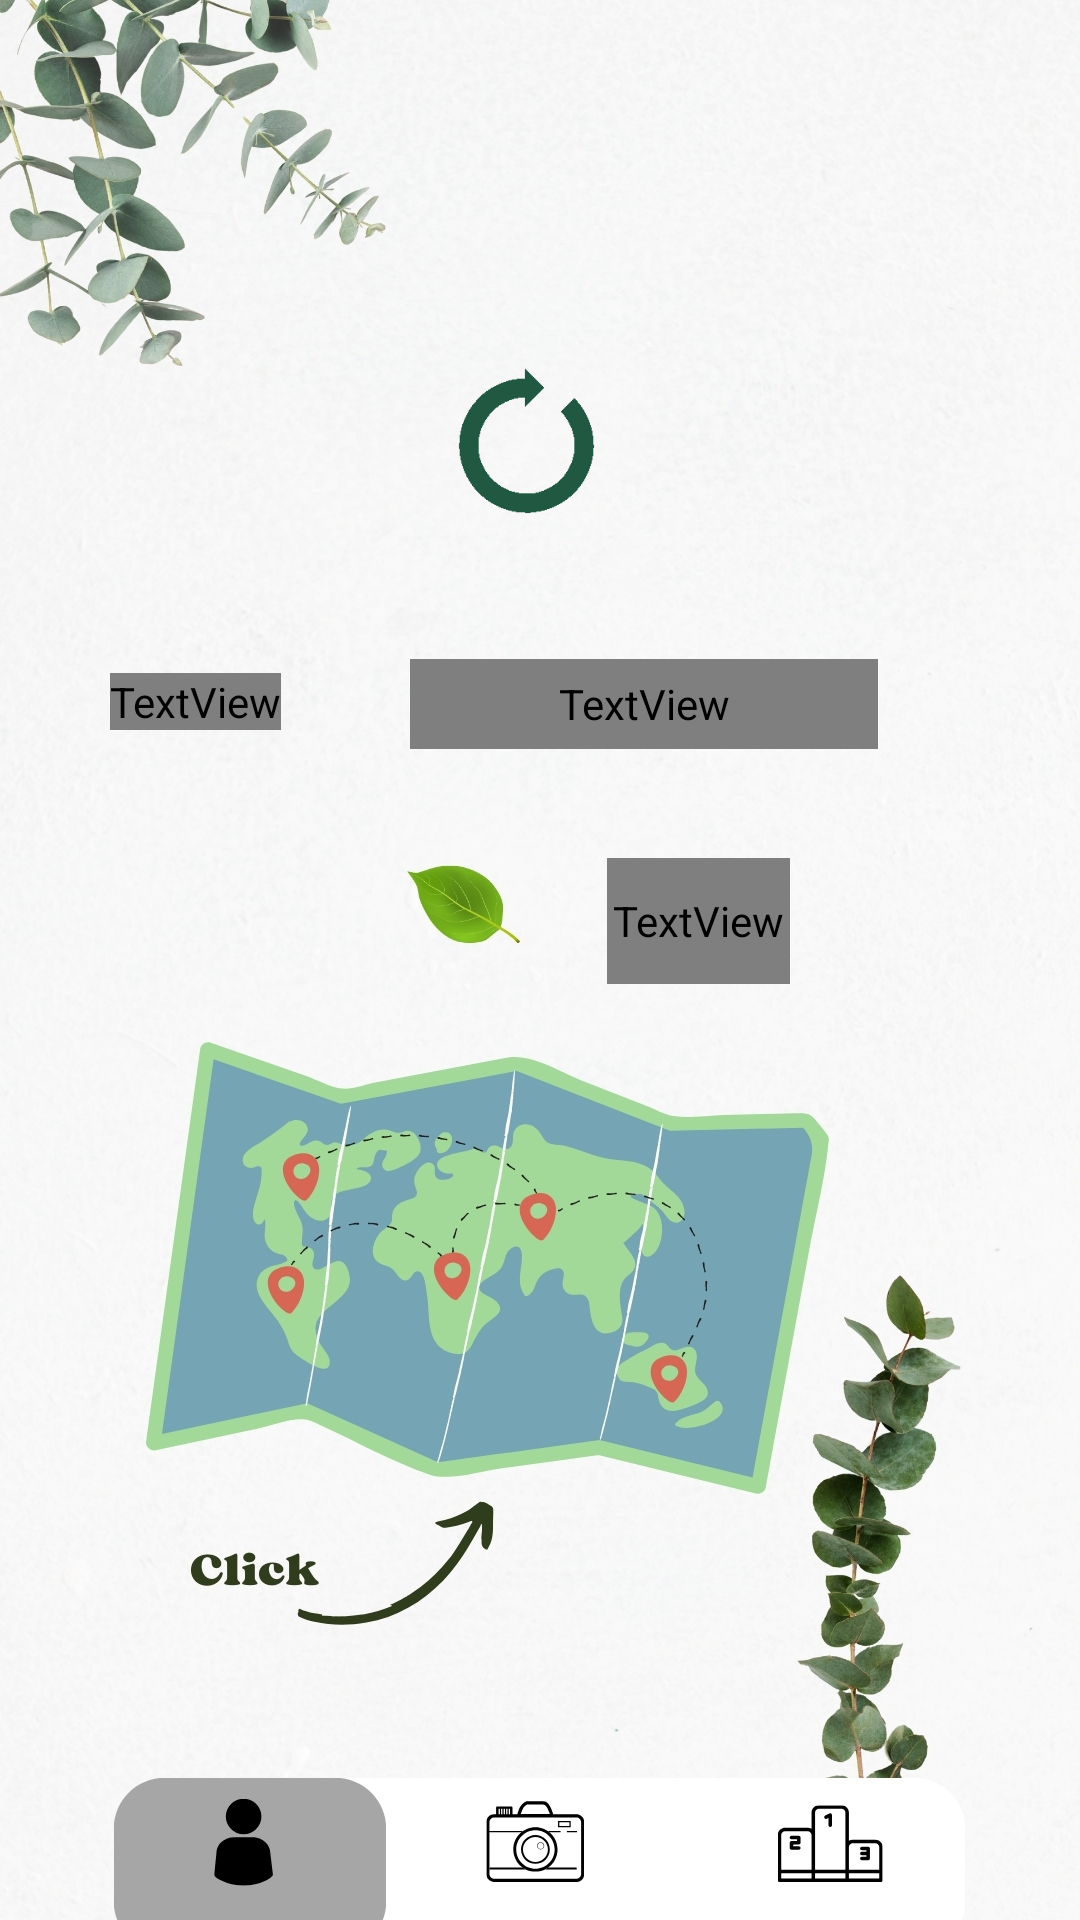

Where icons sit on this 1080 x 1920 app screen, as [left=x1, top=y1, right=x2, bottom=y2]:
loadingperfil: [left=459, top=368, right=594, bottom=513]
